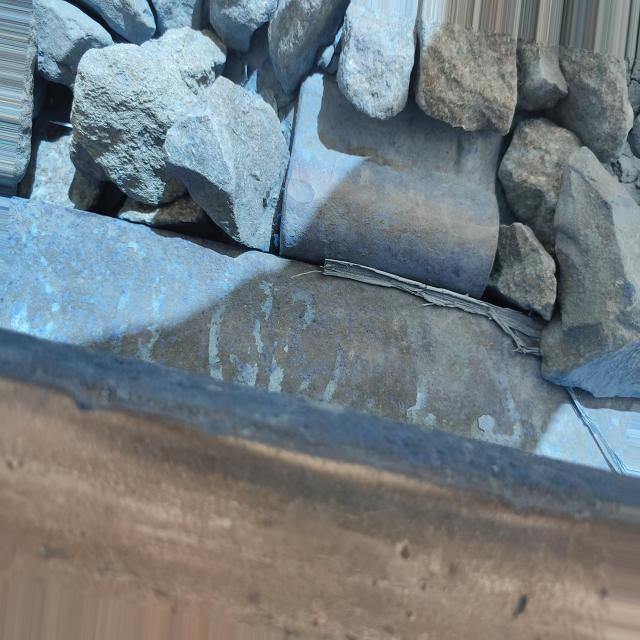Missing Fastener: (235, 30, 537, 332)
